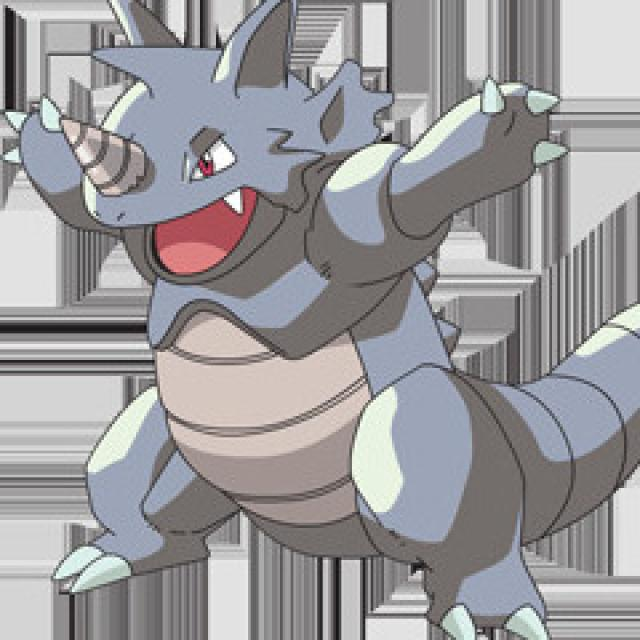Rhydon: (51, 59, 570, 596)
